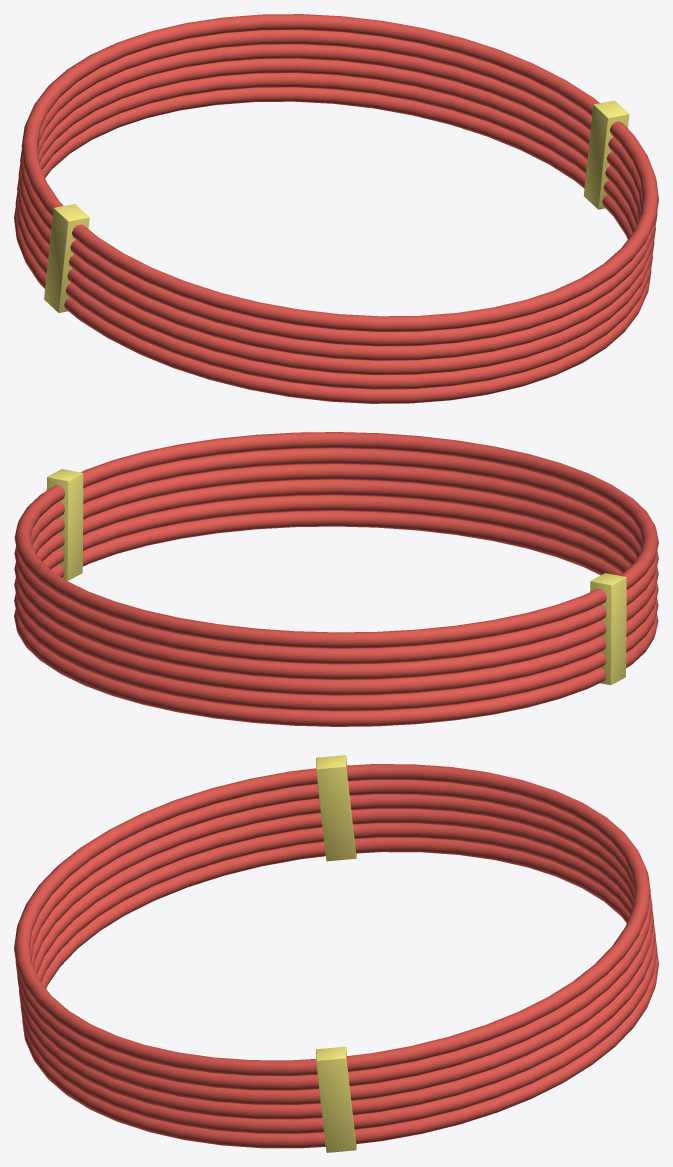
File: HID-AGF-007_anim.glb
3 renders of one model, top to bottom at view 1: azimuth 30°, elevation 25°; view 2: azimuth 150°, elevation 25°; view 3: azimuth 270°, elevation 25°, orthographic.
Visible parts, largest first — view 1: HID-AGF-007_anim0; view 2: HID-AGF-007_anim0; view 3: HID-AGF-007_anim0.
Part boxes in pixels (x1,y1,x2,y2): HID-AGF-007_anim0: (14,14,658,403); HID-AGF-007_anim0: (14,432,658,726); HID-AGF-007_anim0: (14,755,658,1152).
Size of the model in its own units: 0.6454 by 0.1647 by 0.6369.
